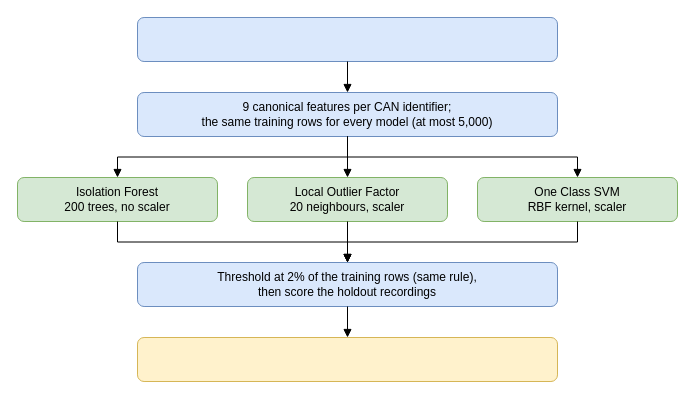
Some shapes in this 695 by 399 pixel diagram are drawn without their labels. The centre of each missing label's shape, as x and y in pixels:
Compare: share of holdout rows flagged, training time, time to score one frame: pixel 347 359
Production split of the 4 vehicles: training recordings | holdout recordings: pixel 347 39
